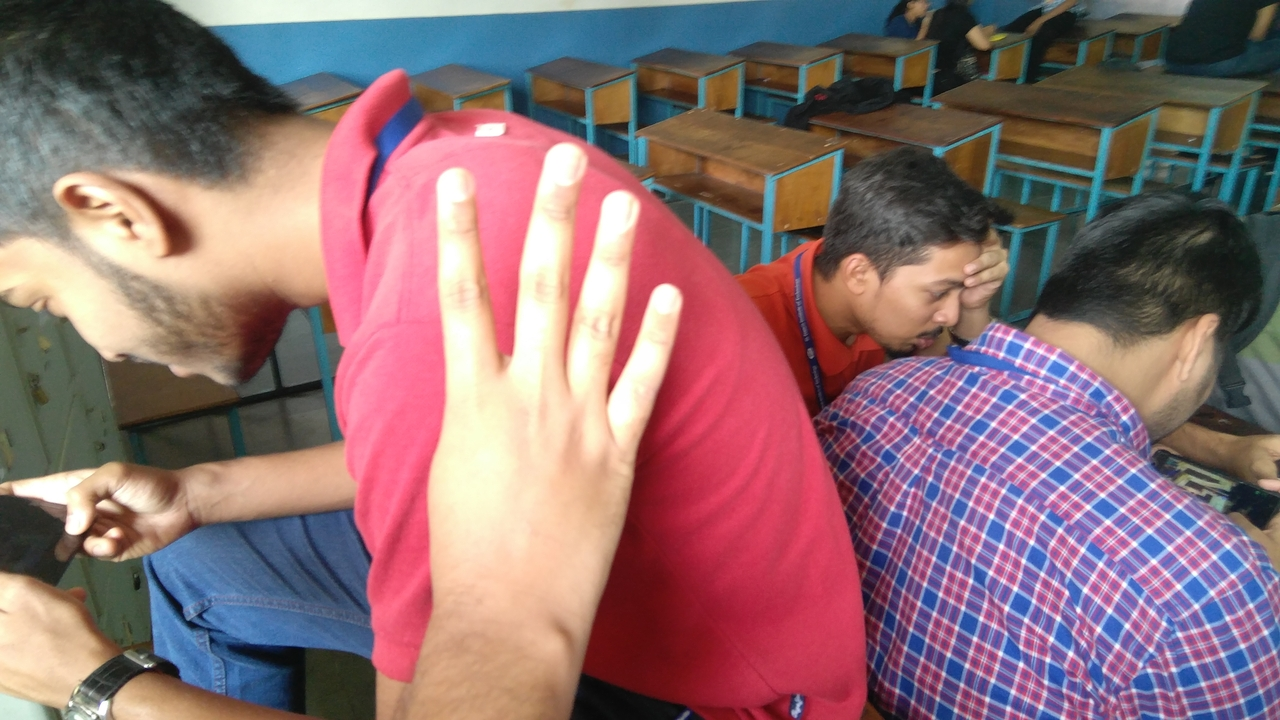fingertip: (528, 132, 590, 200), (634, 274, 692, 334), (427, 152, 485, 208), (599, 189, 639, 239)
